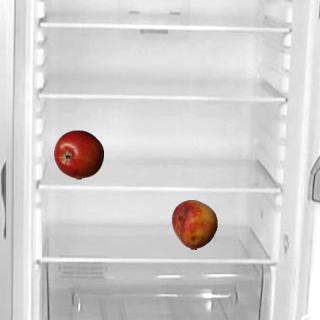Apple Braeburn: (53, 129, 103, 179)
Peach: (169, 199, 219, 249)
